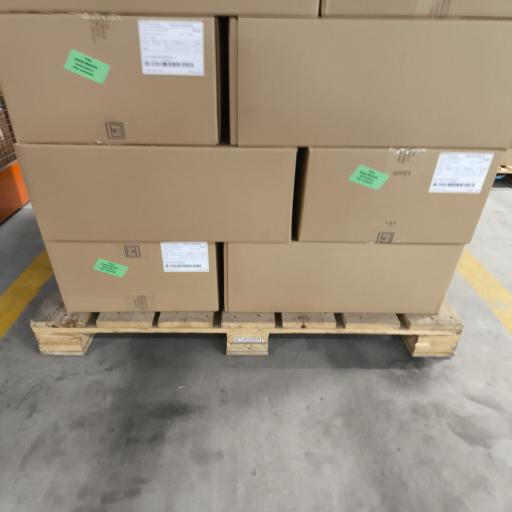pallet: (31, 293, 462, 356), (498, 166, 511, 174)
